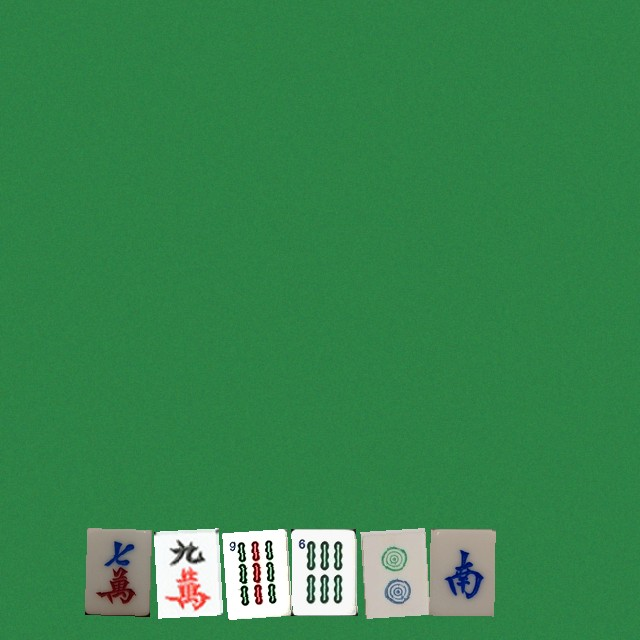tile: (84, 528, 149, 615), (153, 528, 218, 615), (222, 528, 287, 615), (291, 528, 356, 615), (360, 528, 425, 615), (429, 528, 494, 615)
